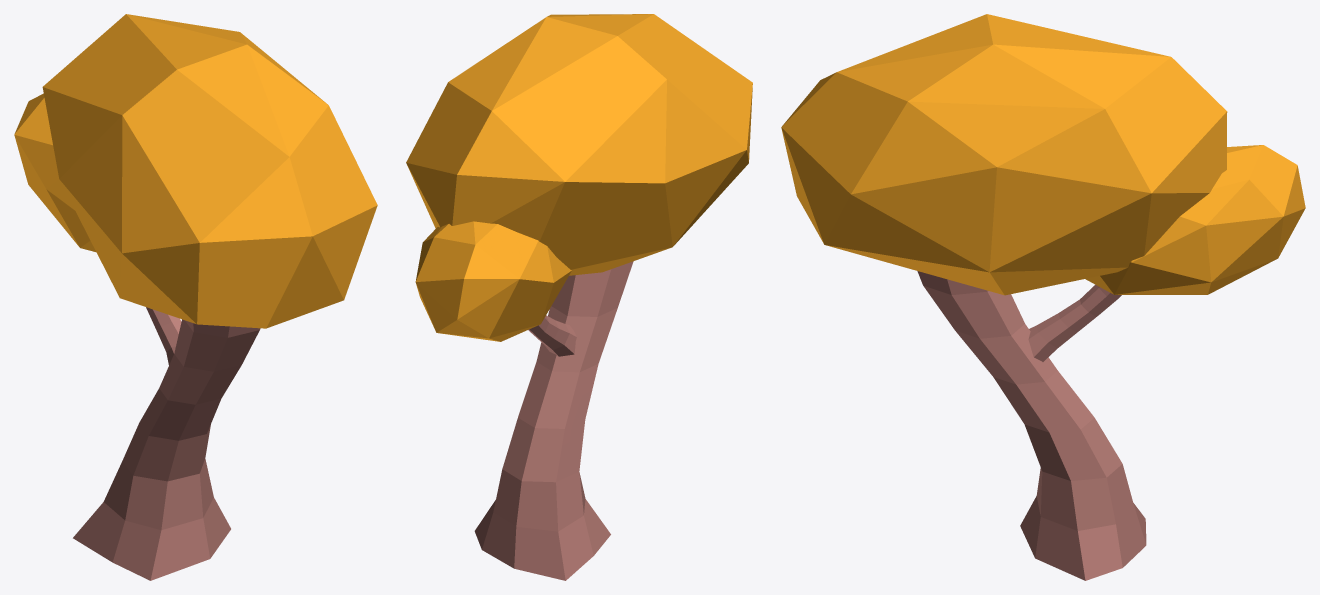
File: ArbolAmarillo.fbx
3 views of the same model, side by side, from view 1: azimuth 30°, elevation 25°; view 2: azimuth 150°, elevation 25°; view 3: azimuth 270°, elevation 25° (orthographic). The views are drawn at different scales.
Visible parts, largest first — view 1: Cube.001; view 2: Cube.001; view 3: Cube.001.
Part boxes in pixels (<box>): Cube.001: <box>14,14,377,580</box>; Cube.001: <box>406,14,752,580</box>; Cube.001: <box>781,14,1305,580</box>.
Bounding box in the file's own units: 300 × 599 × 546.
